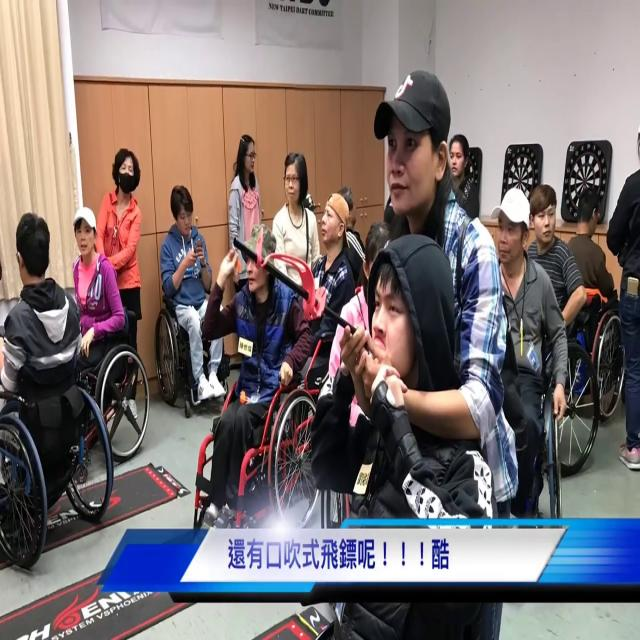wheelchairs: (0, 356, 116, 576), (184, 353, 317, 530), (146, 282, 240, 430), (66, 326, 157, 476)
